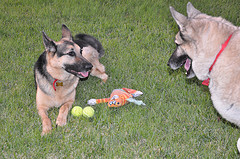tennis ball: (82, 106, 95, 119), (71, 105, 83, 117)
